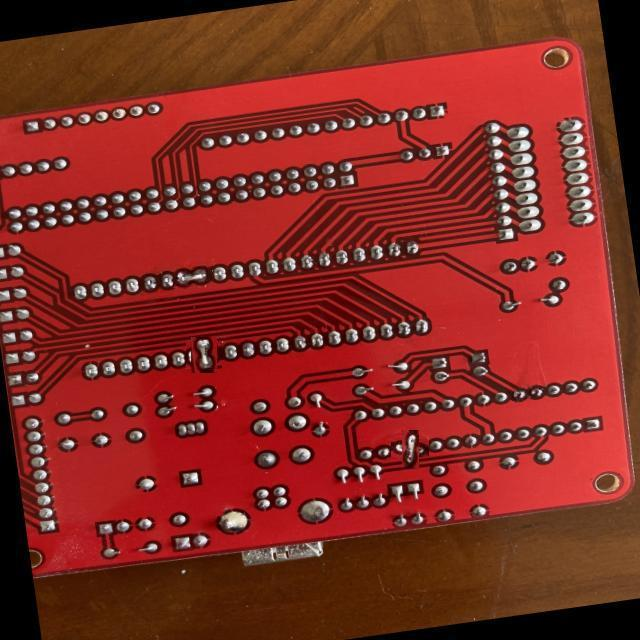damged: (188, 340, 220, 371), (173, 266, 213, 288), (396, 435, 424, 463)
